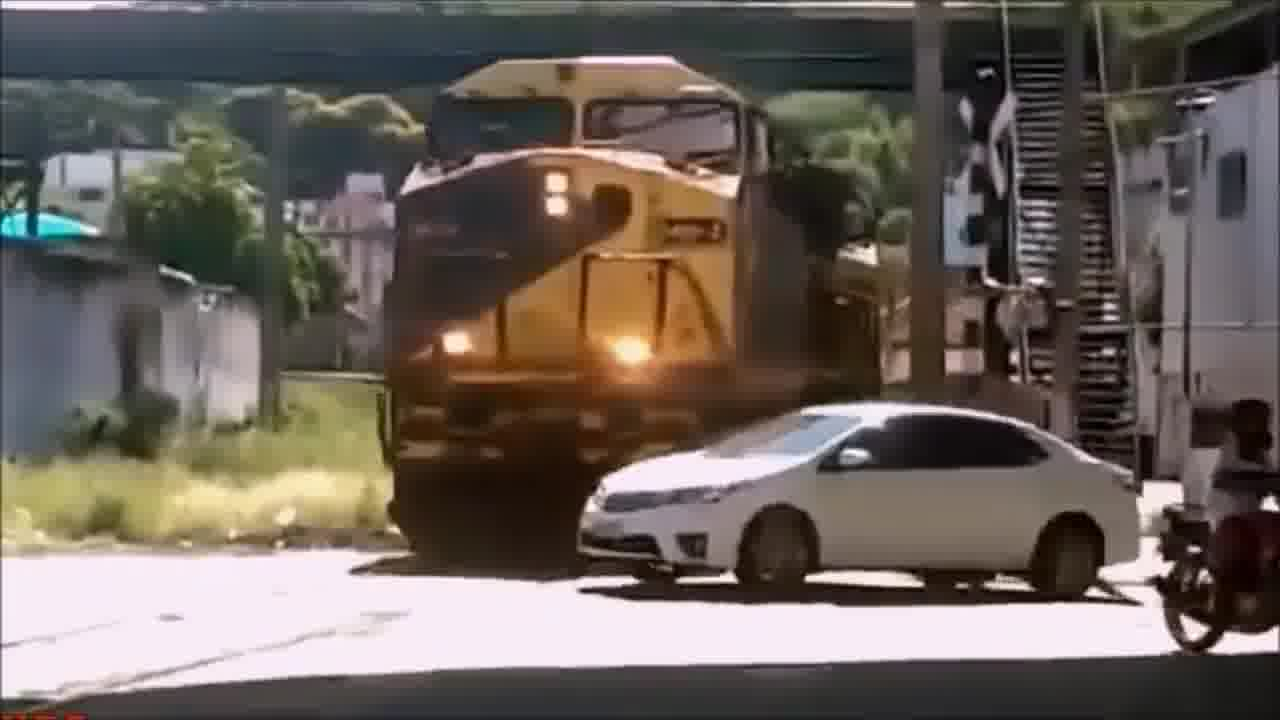crossing railway track: (559, 381, 1173, 628)
